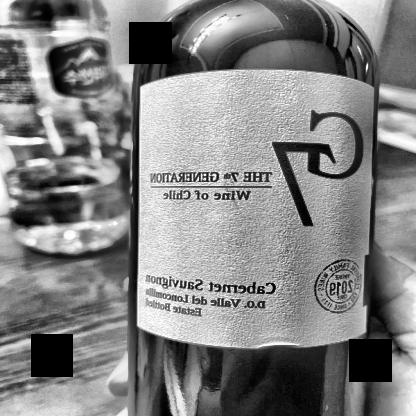G7: (132, 76, 376, 344)
